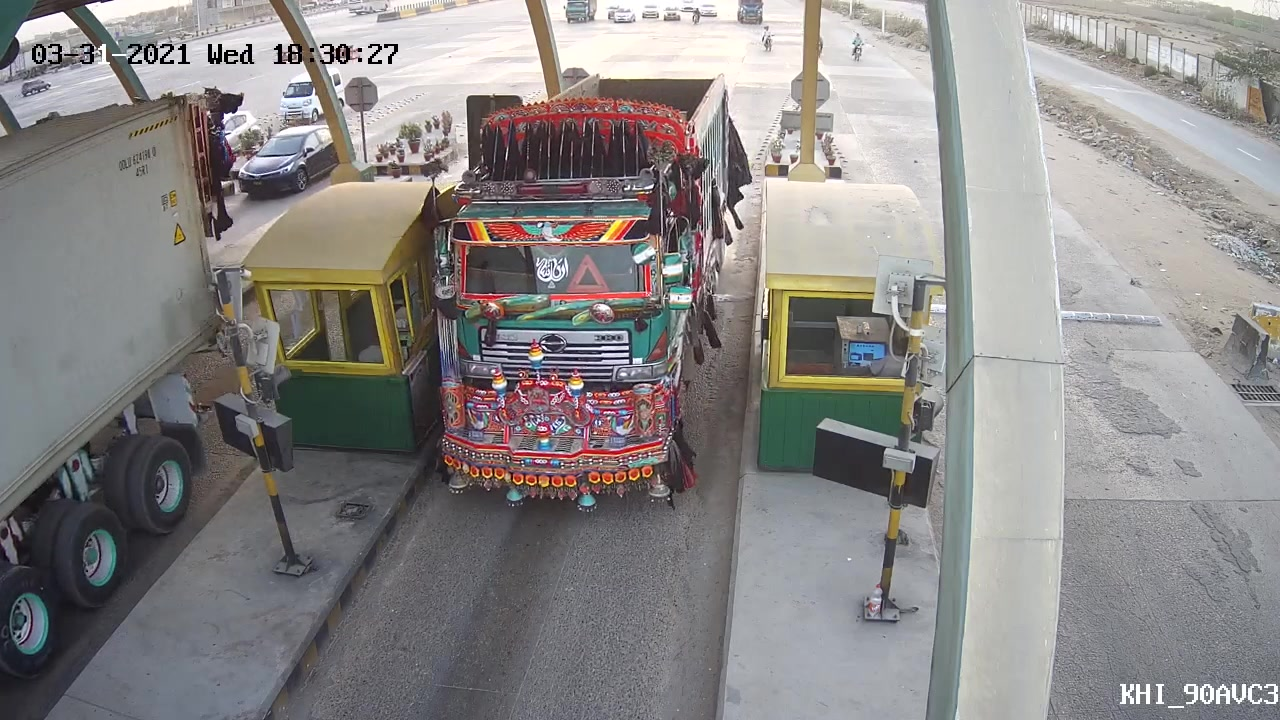F5: (414, 65, 745, 516)
